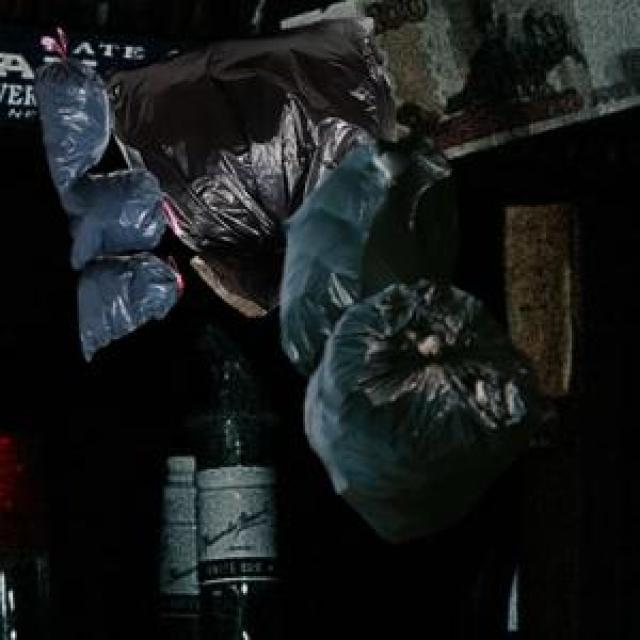Trashbag: (300, 282, 541, 542), (273, 143, 445, 331), (73, 247, 194, 354), (56, 166, 173, 255), (39, 60, 113, 171)
